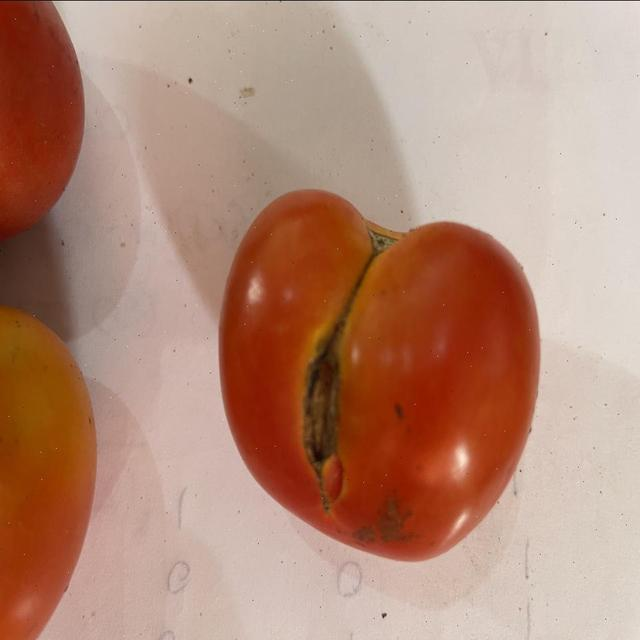Cracking Fruit: (97, 151, 357, 318)
